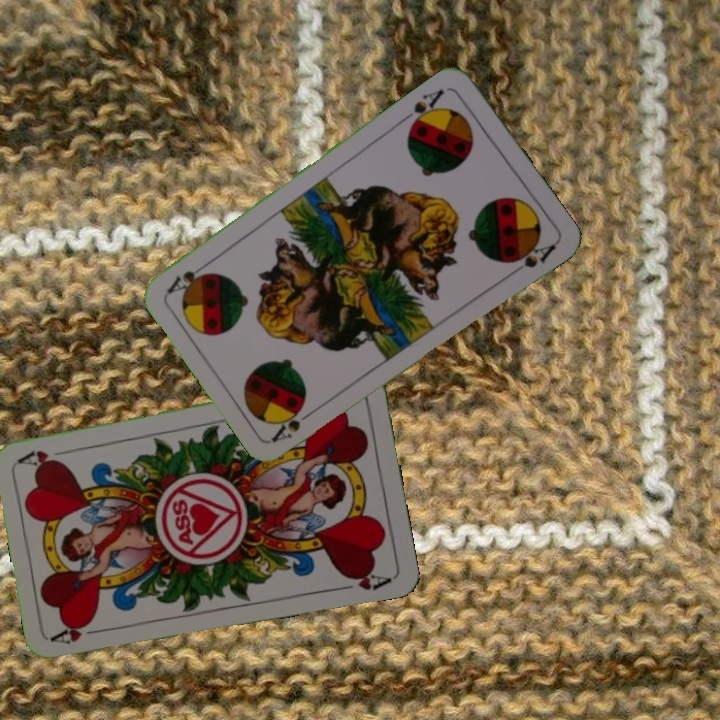HA: (49, 616, 108, 648)
SA: (398, 84, 447, 132), (268, 402, 320, 445)
